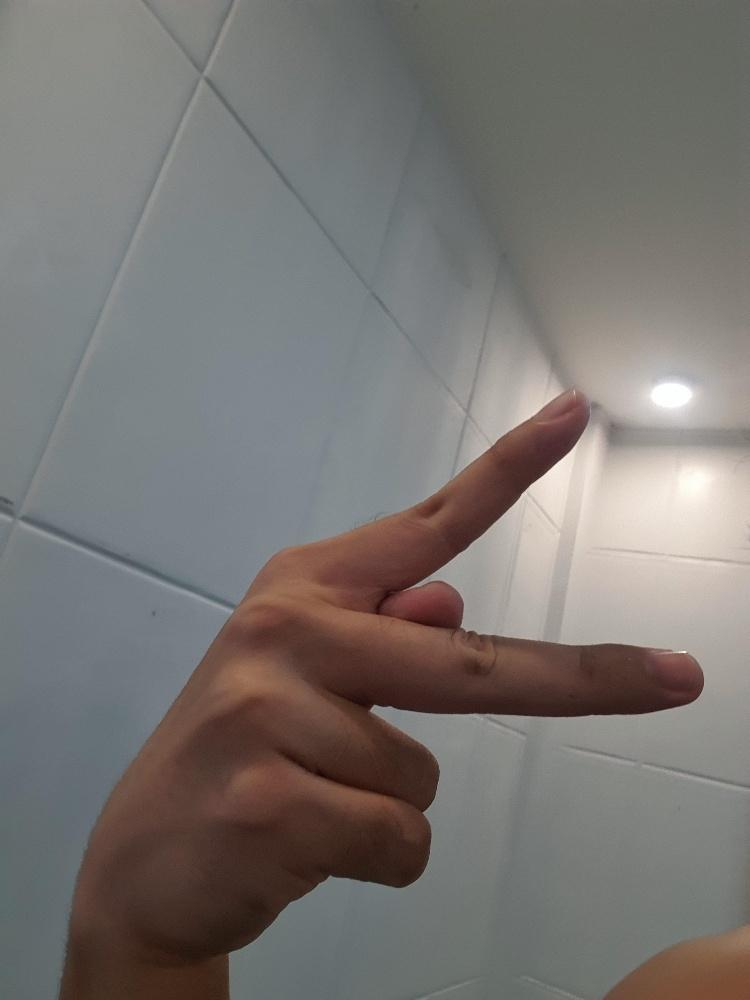k: (67, 381, 709, 964)
